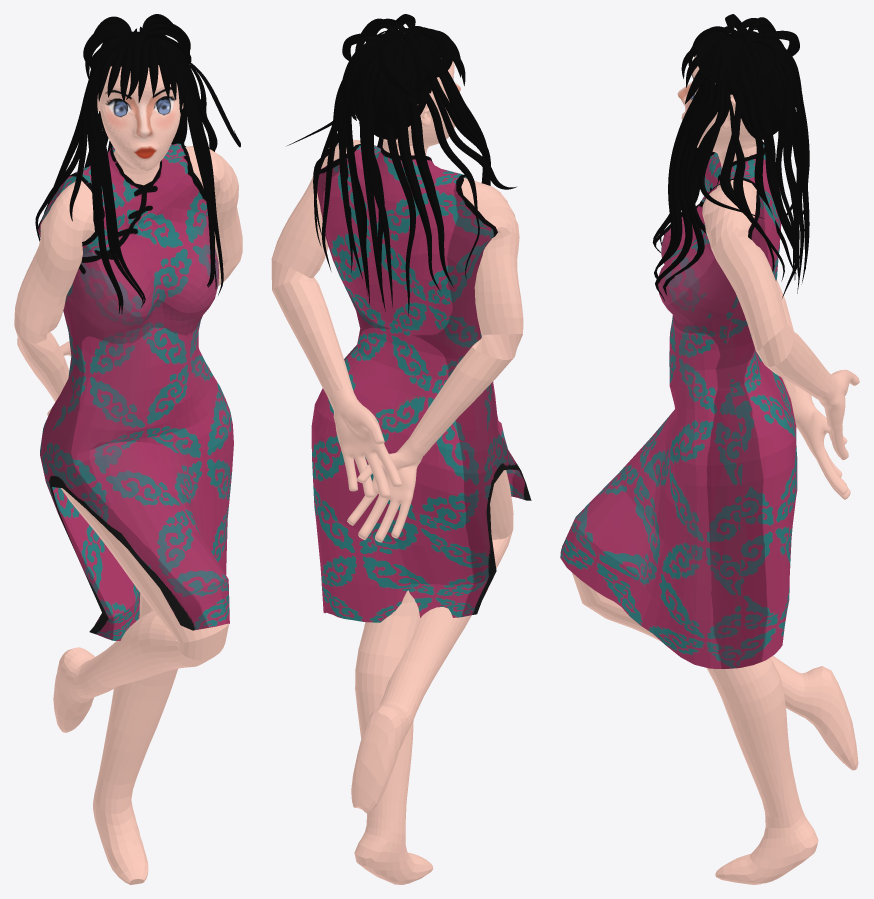
The model's file is xiaohua.glb.
3 renders of one model, left to right at view 1: azimuth 30°, elevation 25°; view 2: azimuth 150°, elevation 25°; view 3: azimuth 270°, elevation 25°, orthographic.
Parts seen in each view (by area): view 1: Dress, Body, Hair; view 2: Dress, Body, Hair; view 3: Dress, Body, Hair.
Boxes of the visible parts, <box> form: Dress: <box>38,142,233,640</box>; Body: <box>14,31,242,884</box>; Hair: <box>35,14,240,313</box>; Dress: <box>311,144,531,622</box>; Body: <box>271,33,523,884</box>; Hair: <box>287,14,516,315</box>; Dress: <box>560,141,797,668</box>; Body: <box>572,32,859,884</box>; Hair: <box>652,14,809,301</box>.
Size of the model in its own units: 1.61 by 5.54 by 1.75.
Materials: 3 (2 with a texture image).
